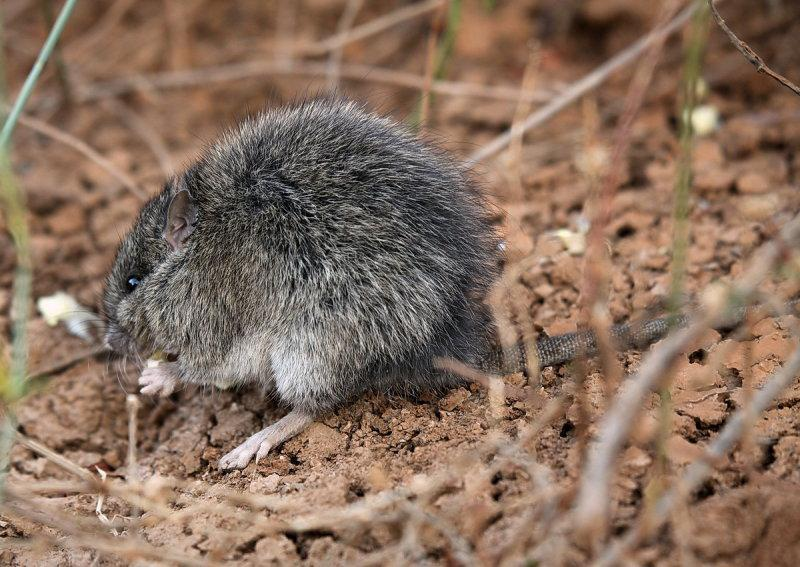rat: (100, 97, 603, 470)
